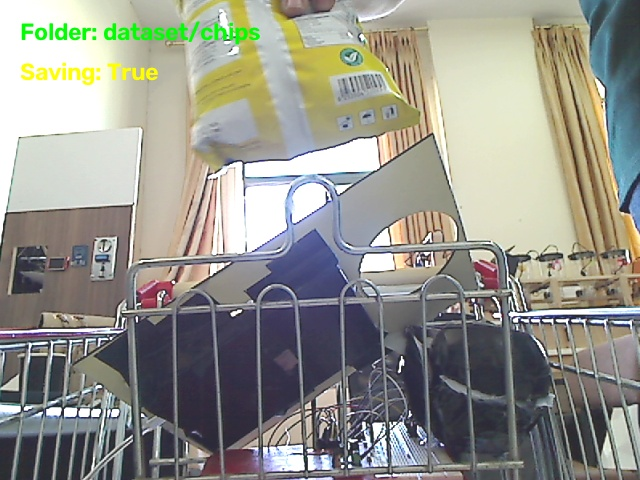chips: (178, 0, 419, 169)
